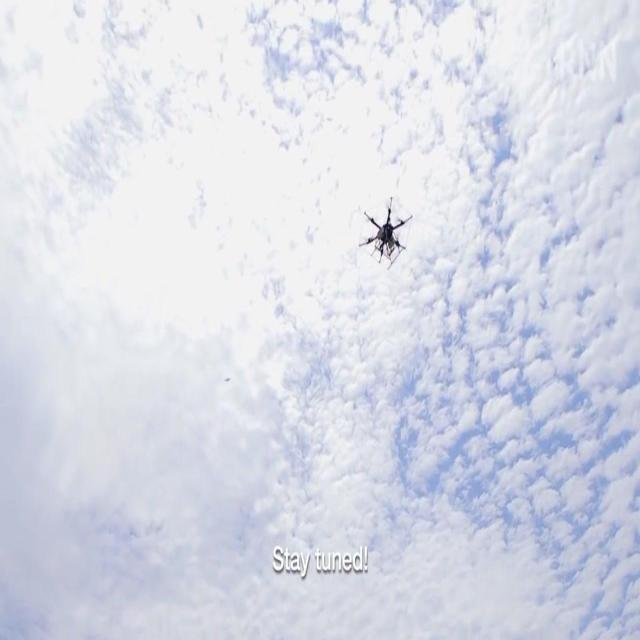drone: (358, 192, 414, 275)
